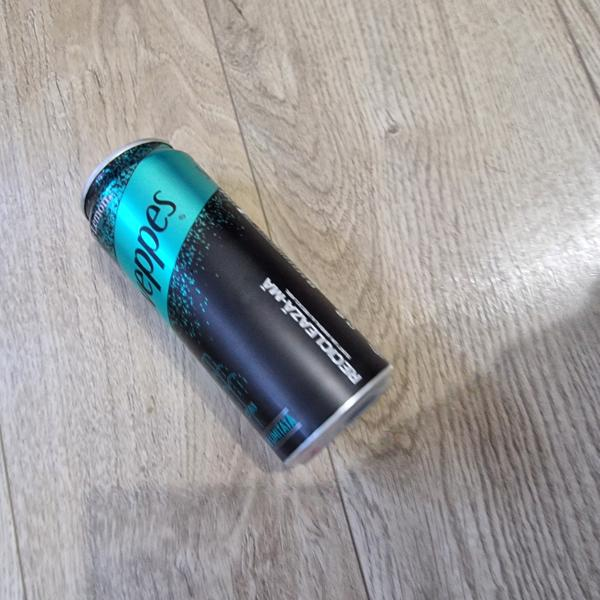can: (54, 107, 402, 474)
